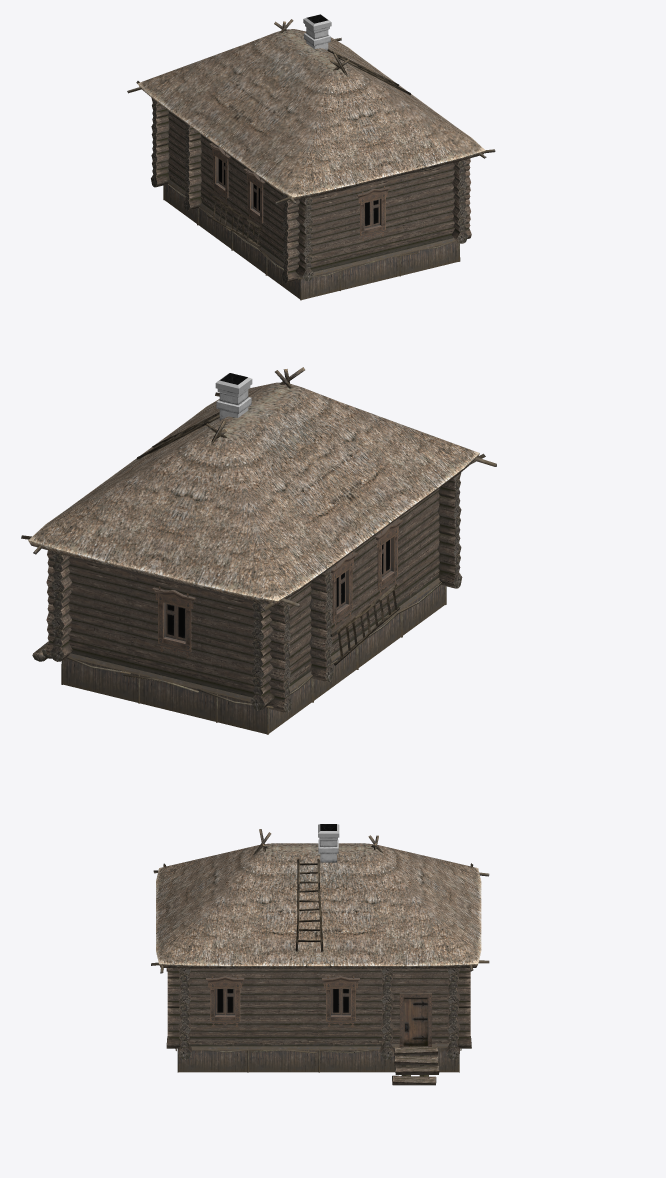
File: building.glb
3 renders of one model, top to bottom at view 1: azimuth 30°, elevation 25°; view 2: azimuth 150°, elevation 25°; view 3: azimuth 270°, elevation 25°, orthographic. The views are drawn at different scales.
Parts seen in each view (by area): view 1: Plane001; view 2: Plane001; view 3: Plane001.
Part boxes in pixels (x1,y1,x2,y2): Plane001: (127, 14, 495, 300); Plane001: (21, 367, 496, 734); Plane001: (151, 824, 489, 1085).
Size of the model in its own units: 30.14 by 11.96 by 32.84.
Materials: 1 (1 with a texture image).
